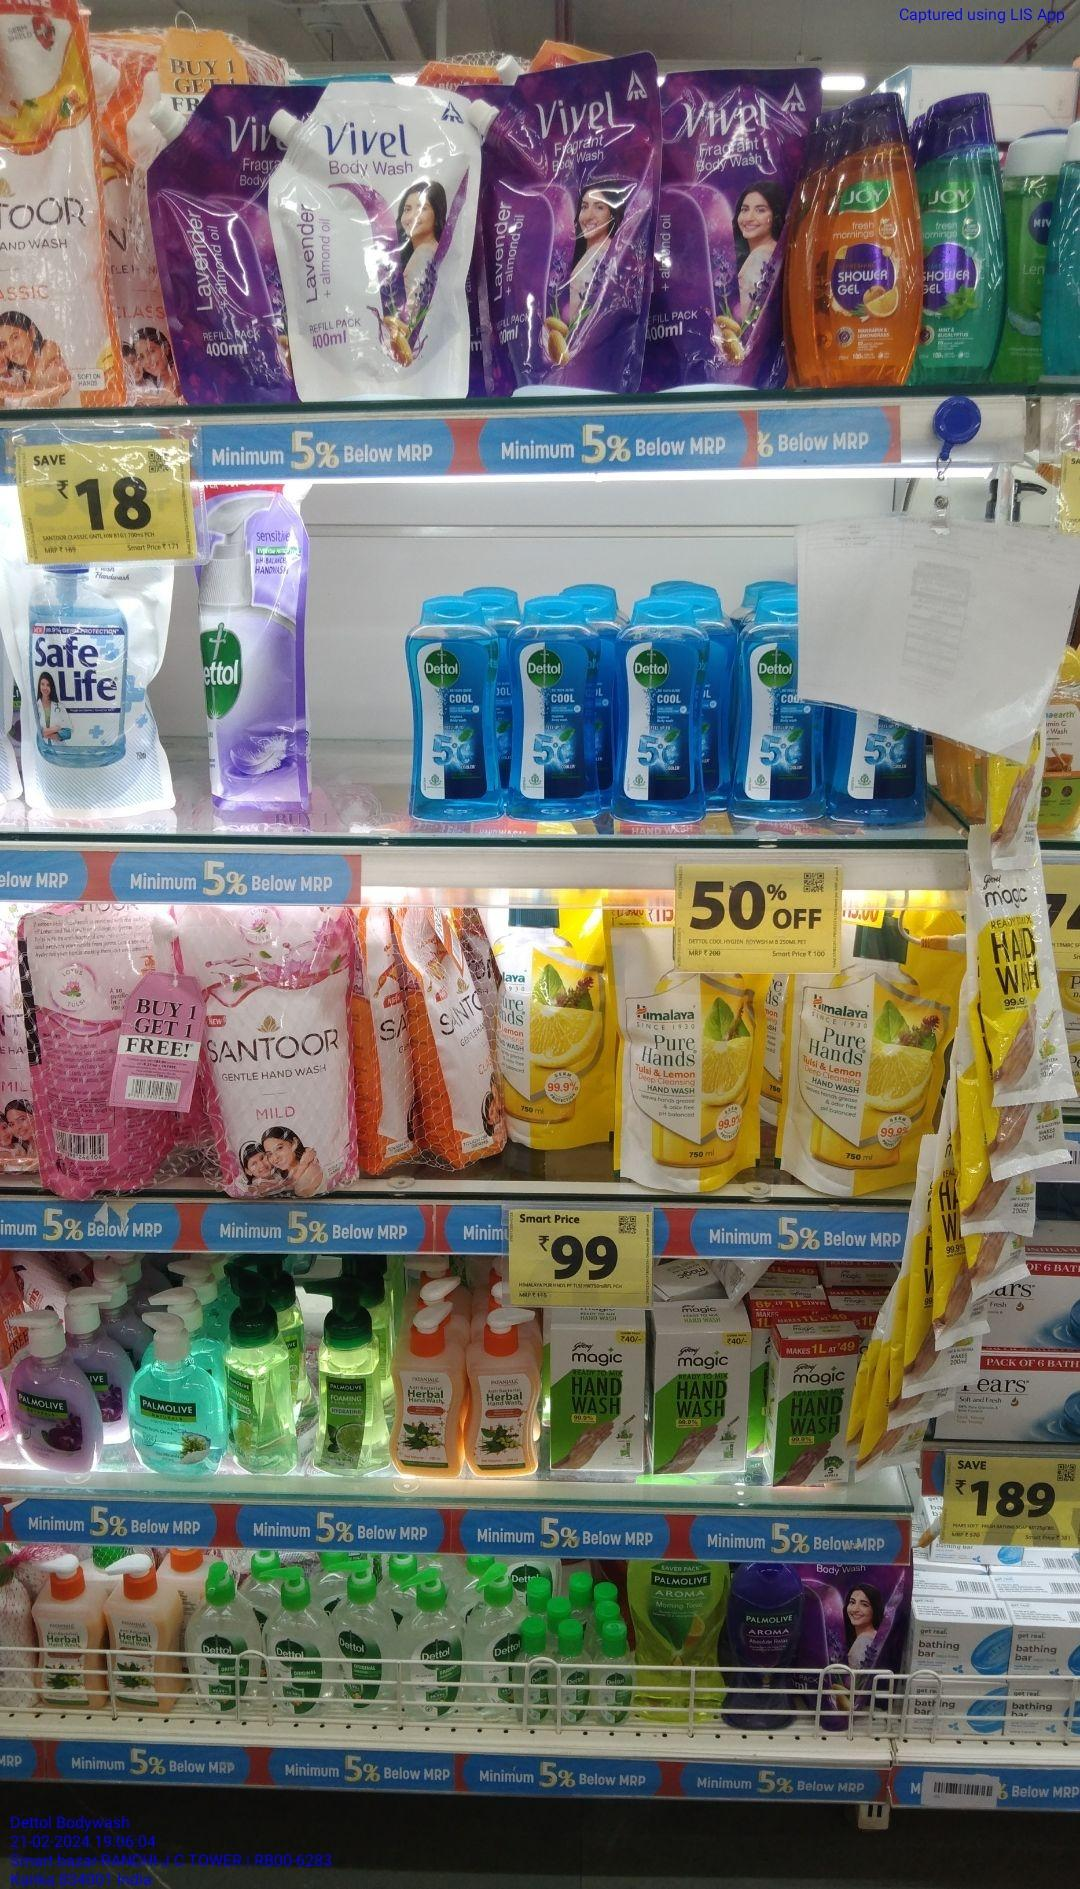Dettol_Bodywash_Cool: (401, 599, 501, 820), (509, 599, 605, 821), (731, 602, 826, 821), (615, 602, 710, 820)
Joy_Shower_Gel_Mandarin_and_Lemongrass_250ML: (798, 99, 920, 391)
